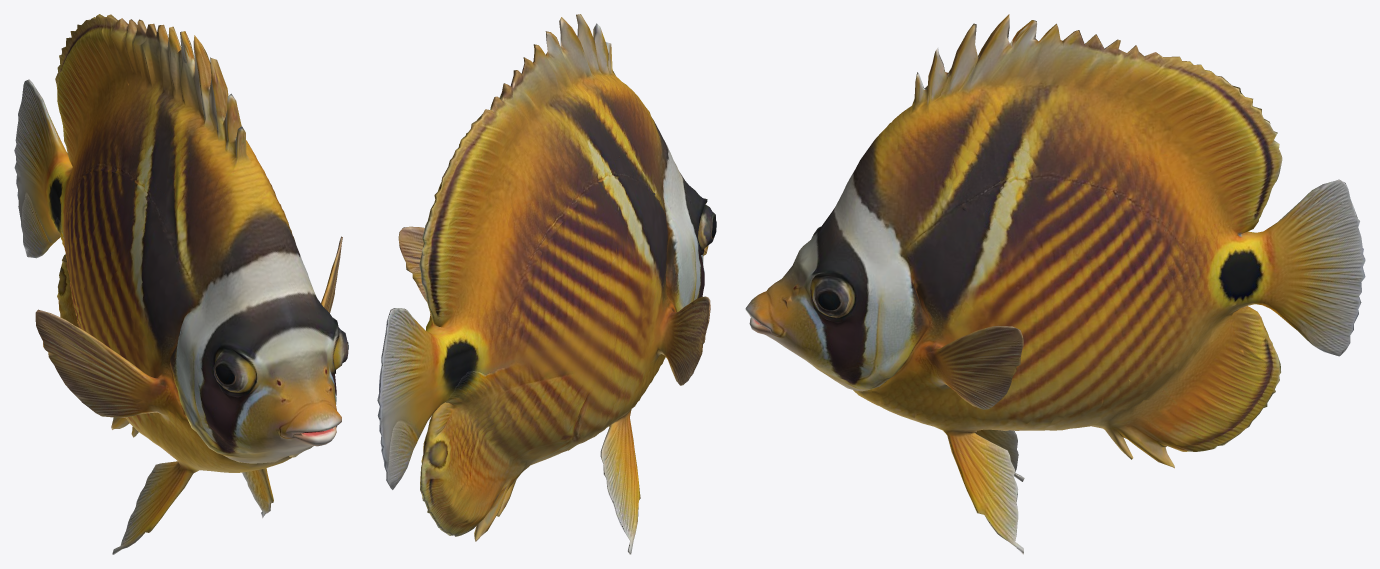
File: butterflyfish.glb
3 renders of one model, left to right at view 1: azimuth 30°, elevation 25°; view 2: azimuth 150°, elevation 25°; view 3: azimuth 270°, elevation 25°, orthographic. The views are drawn at different scales.
Parts seen in each view (by area): view 1: tripo_node_04bb9f7b-acb0-4513-b417-697ec7e78dae; view 2: tripo_node_04bb9f7b-acb0-4513-b417-697ec7e78dae; view 3: tripo_node_04bb9f7b-acb0-4513-b417-697ec7e78dae.
Part boxes in pixels (x1,y1,x2,y2): tripo_node_04bb9f7b-acb0-4513-b417-697ec7e78dae: (14,14,348,554); tripo_node_04bb9f7b-acb0-4513-b417-697ec7e78dae: (377,14,716,554); tripo_node_04bb9f7b-acb0-4513-b417-697ec7e78dae: (745,14,1365,554).
Size of the model in its own units: 0.5681 by 0.8977 by 1.
Materials: 1 (1 with a texture image).
